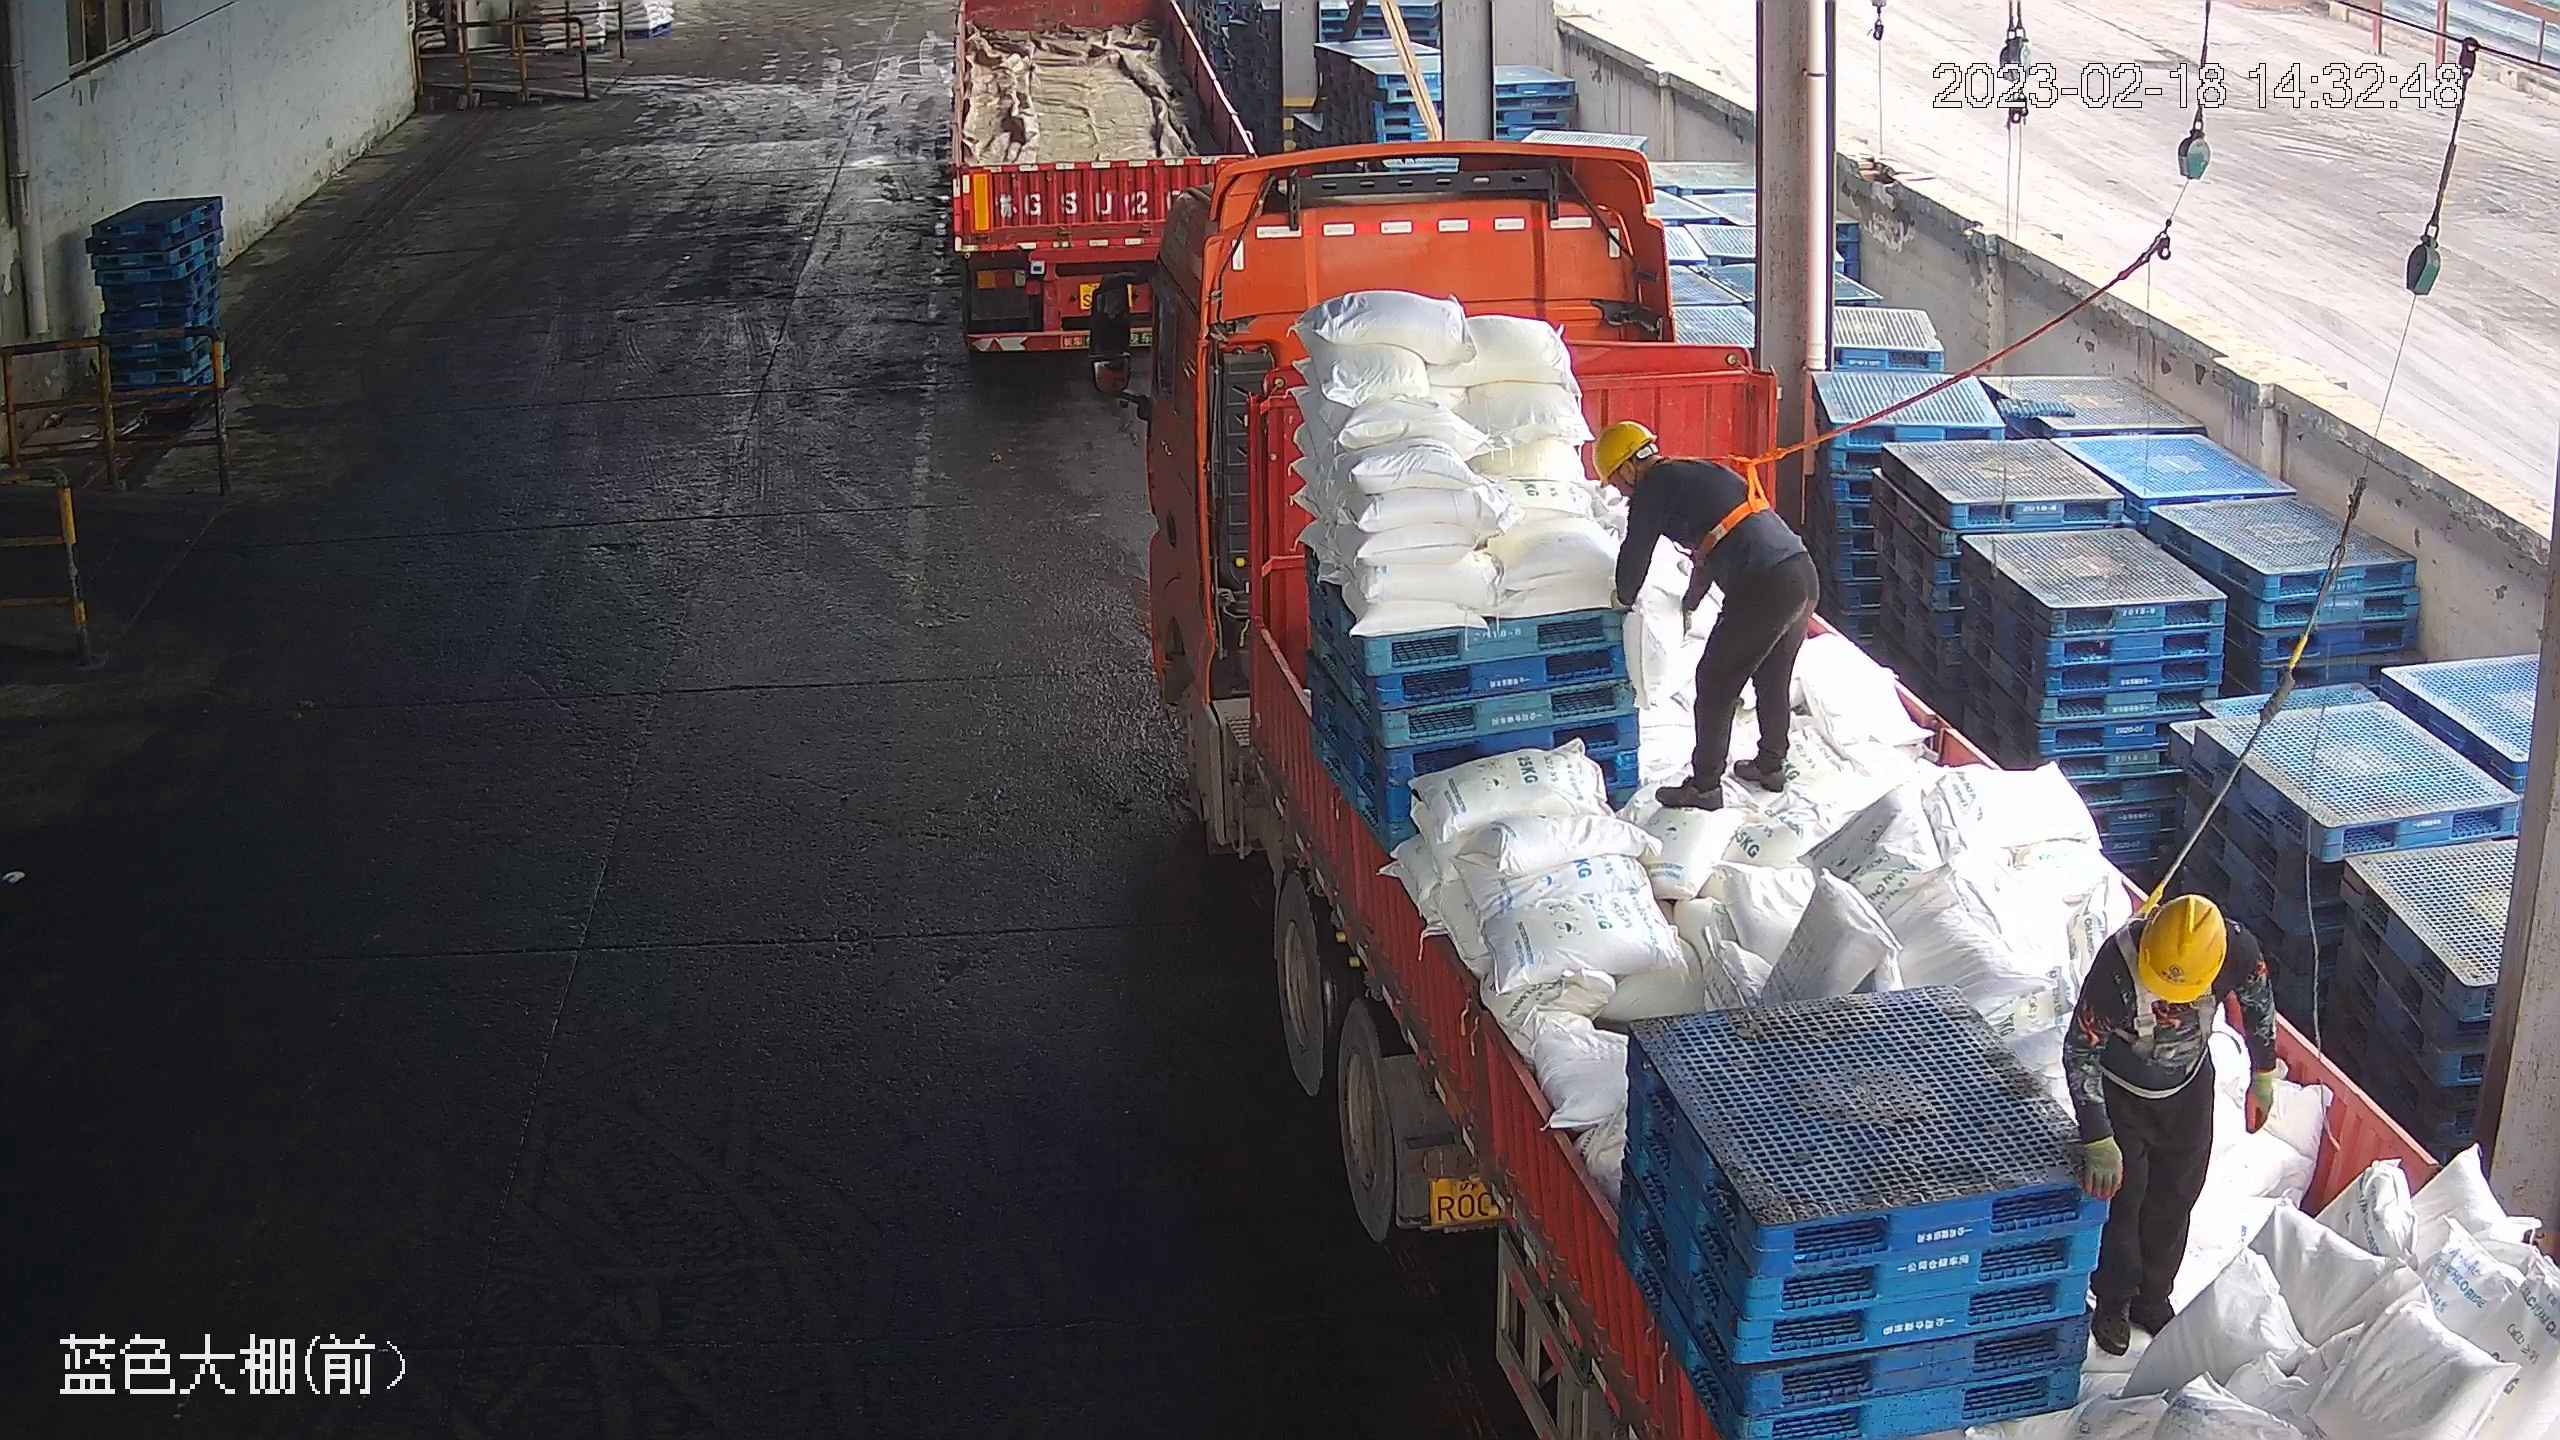belt: (2103, 897, 2240, 1052), (1666, 443, 1787, 550)
head: (2084, 888, 2262, 1047), (1587, 418, 1738, 548)
helmet: (2137, 890, 2226, 1004), (1591, 419, 1658, 485)
people: (2059, 886, 2287, 1358), (1593, 415, 1816, 811)
truck: (1078, 138, 2560, 1439), (939, 4, 1265, 378)
